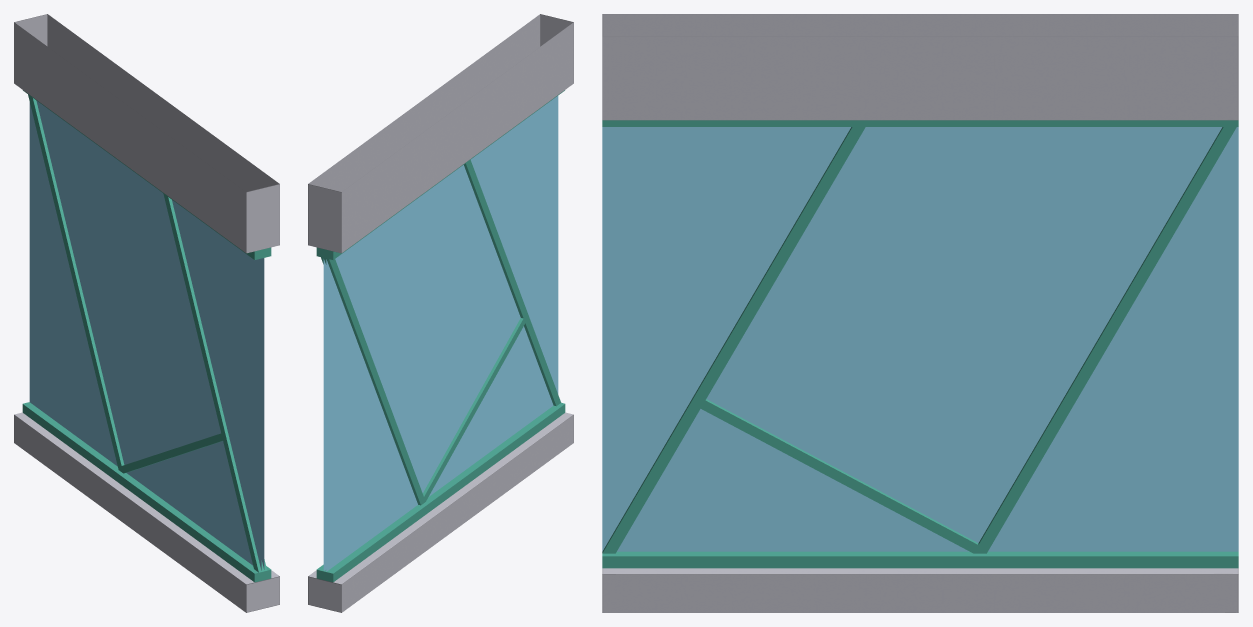
File: Wall_Window_02.FBX
3 renders of one model, left to right at view 1: azimuth 30°, elevation 25°; view 2: azimuth 150°, elevation 25°; view 3: azimuth 270°, elevation 25°, orthographic. The views are drawn at different scales.
Parts seen in each view (by area): view 1: Wall_Window_02; view 2: Wall_Window_02; view 3: Wall_Window_02.
Boxes of the visible parts, box(x1,y1,x2,y2) form: Wall_Window_02: box(14, 14, 279, 612); Wall_Window_02: box(308, 14, 573, 612); Wall_Window_02: box(602, 14, 1238, 612).
Bounding box in the file's own units: 1 × 12 × 12.
Materials: 3 (1 with a texture image).
